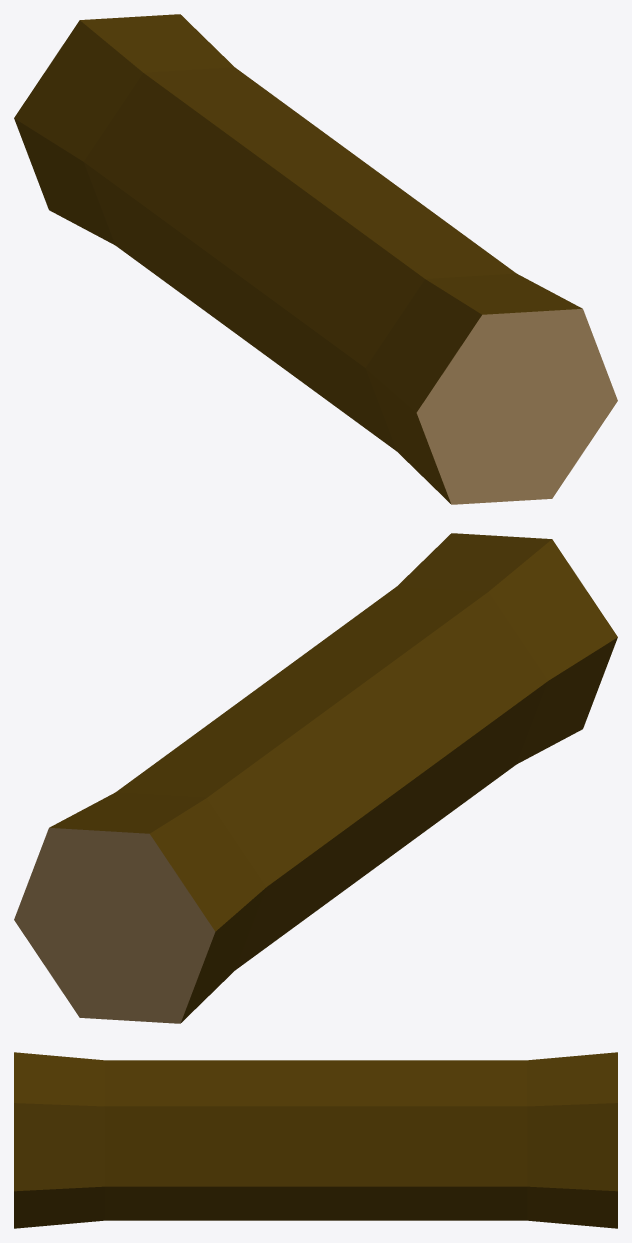
File: Log.fbx
The picture shows the model from 3 angles, top to bottom: view 1: azimuth 30°, elevation 25°; view 2: azimuth 150°, elevation 25°; view 3: azimuth 270°, elevation 25°; orthographic projection. The views are drawn at different scales.
Visible parts, largest first — view 1: Log; view 2: Log; view 3: Log.
Boxes of the visible parts, box(x1,y1,x2,y2) form: Log: box(14, 14, 617, 504); Log: box(14, 533, 617, 1023); Log: box(14, 1052, 617, 1228).
Size of the model in its own units: 0.3467 by 0.3308 by 1.2.
